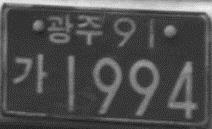1: (66, 53, 77, 114), (146, 16, 157, 50)
4: (167, 59, 198, 120)
9: (129, 58, 162, 119), (91, 56, 124, 116), (112, 14, 136, 49)
가: (11, 52, 49, 94)
광주_O: (46, 13, 103, 46)
